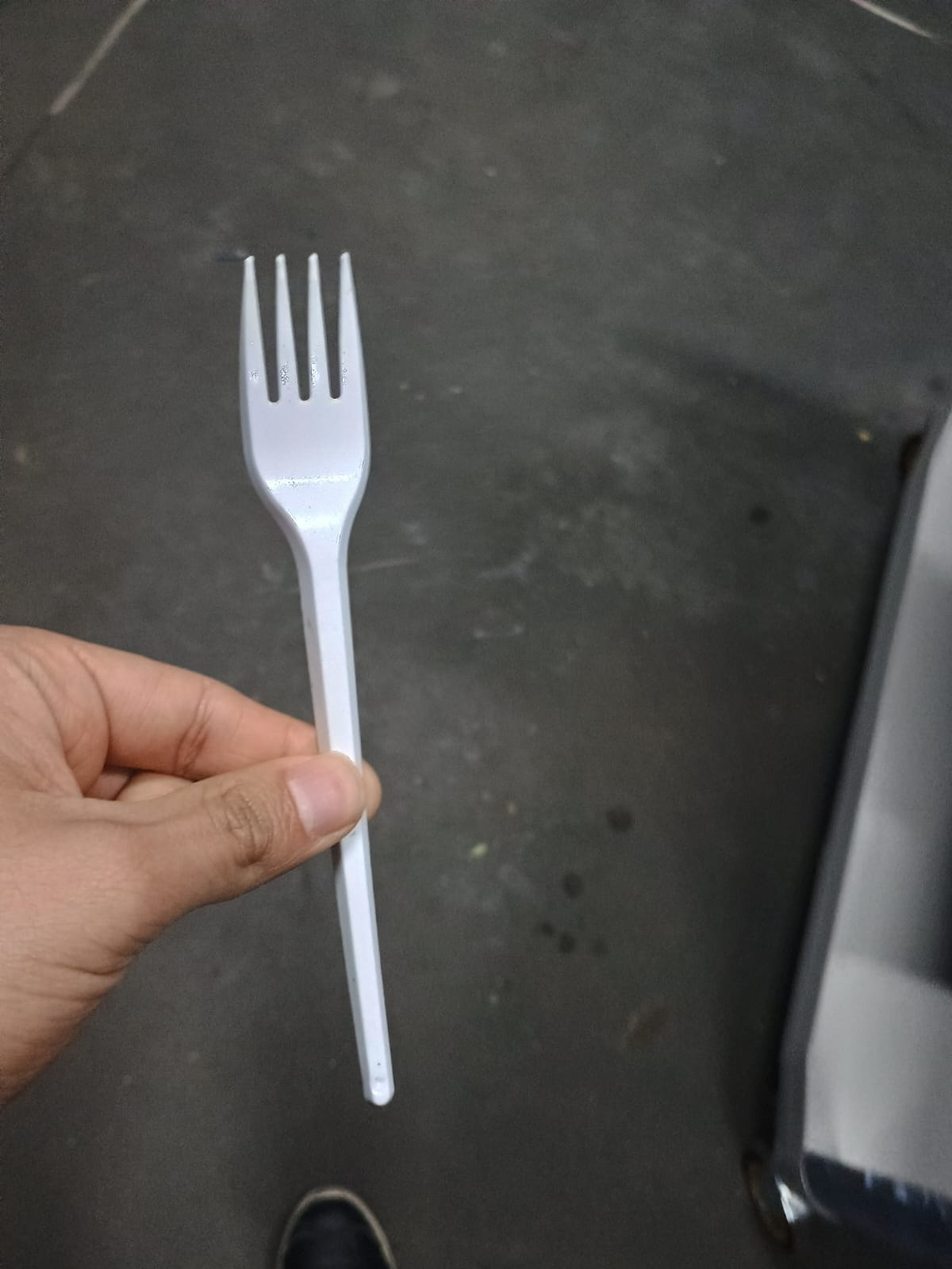Ordinario: (230, 248, 402, 1108)
